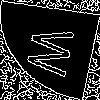W: (25, 24, 86, 80)
